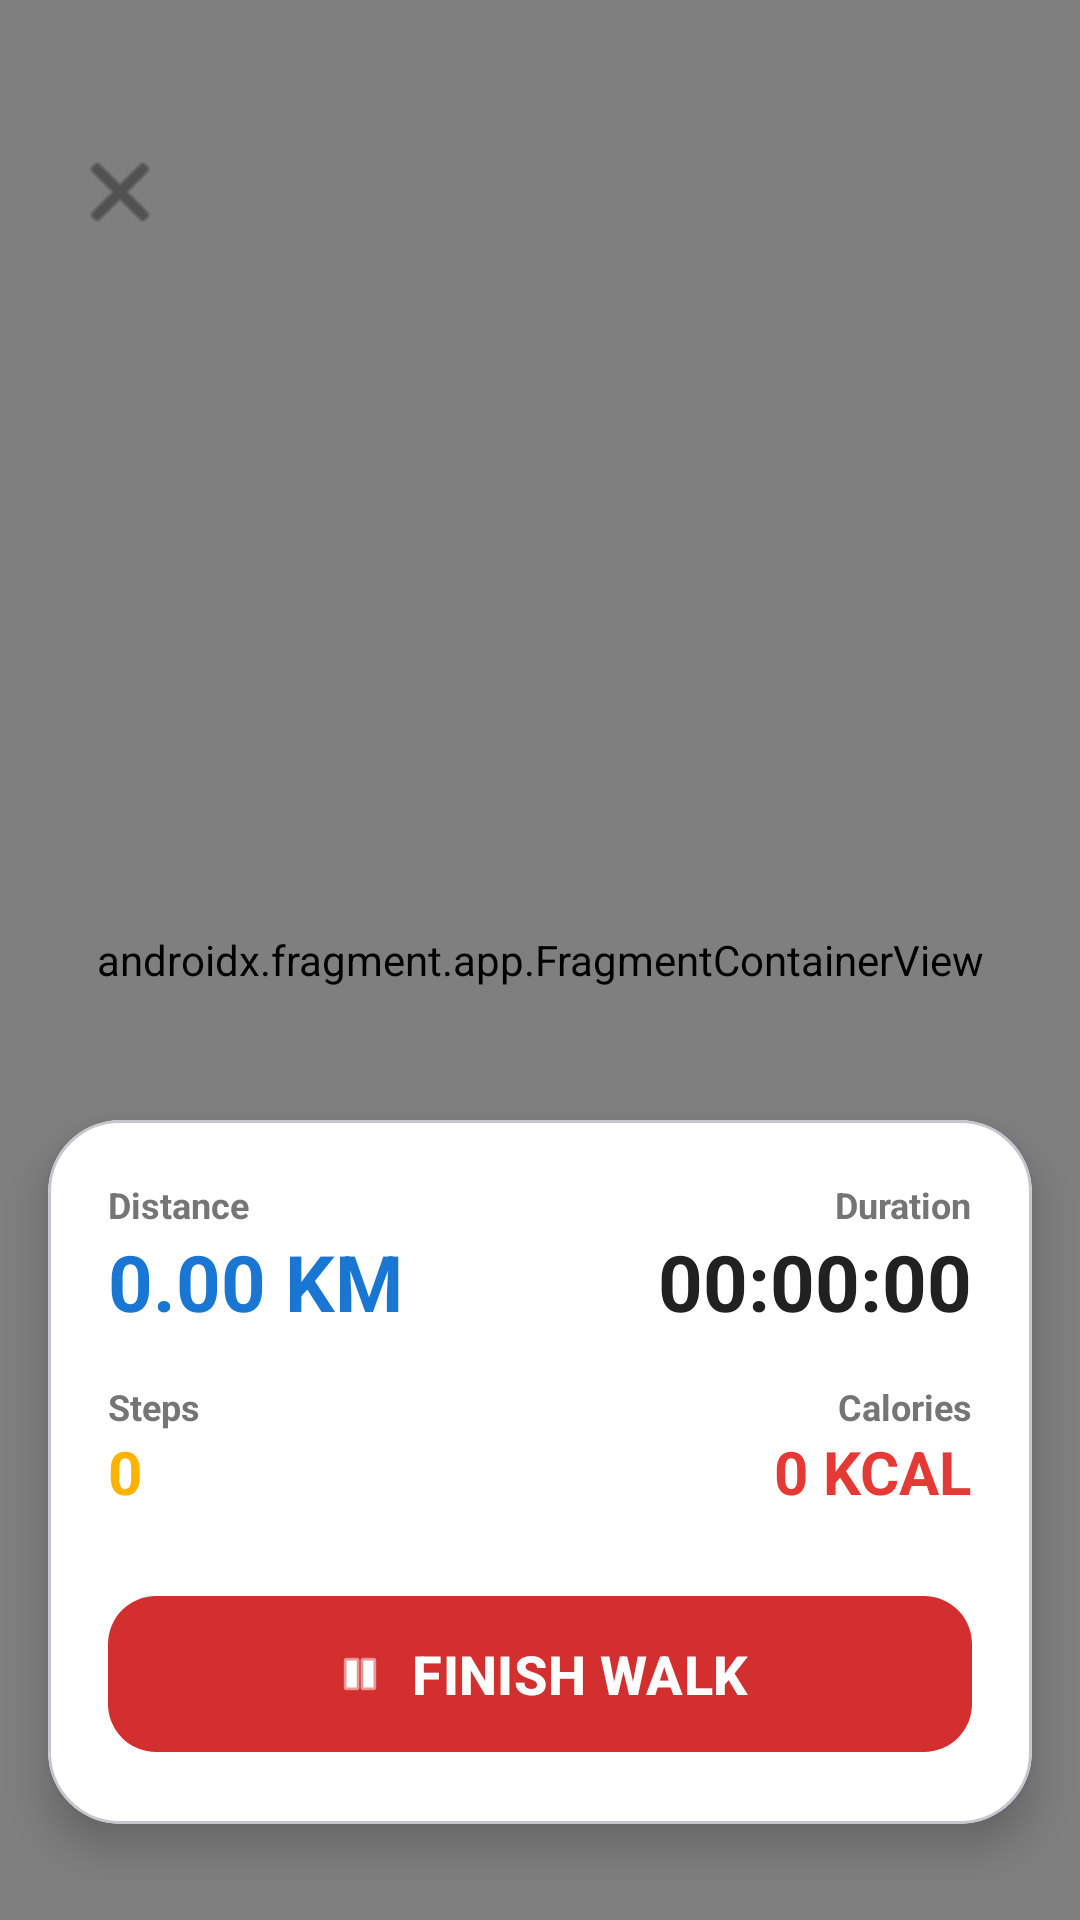

Point at icon controls on the screen. Image size 1080px x 1920px, points as point (x, y).
Cancel Walk: point (120, 192)
